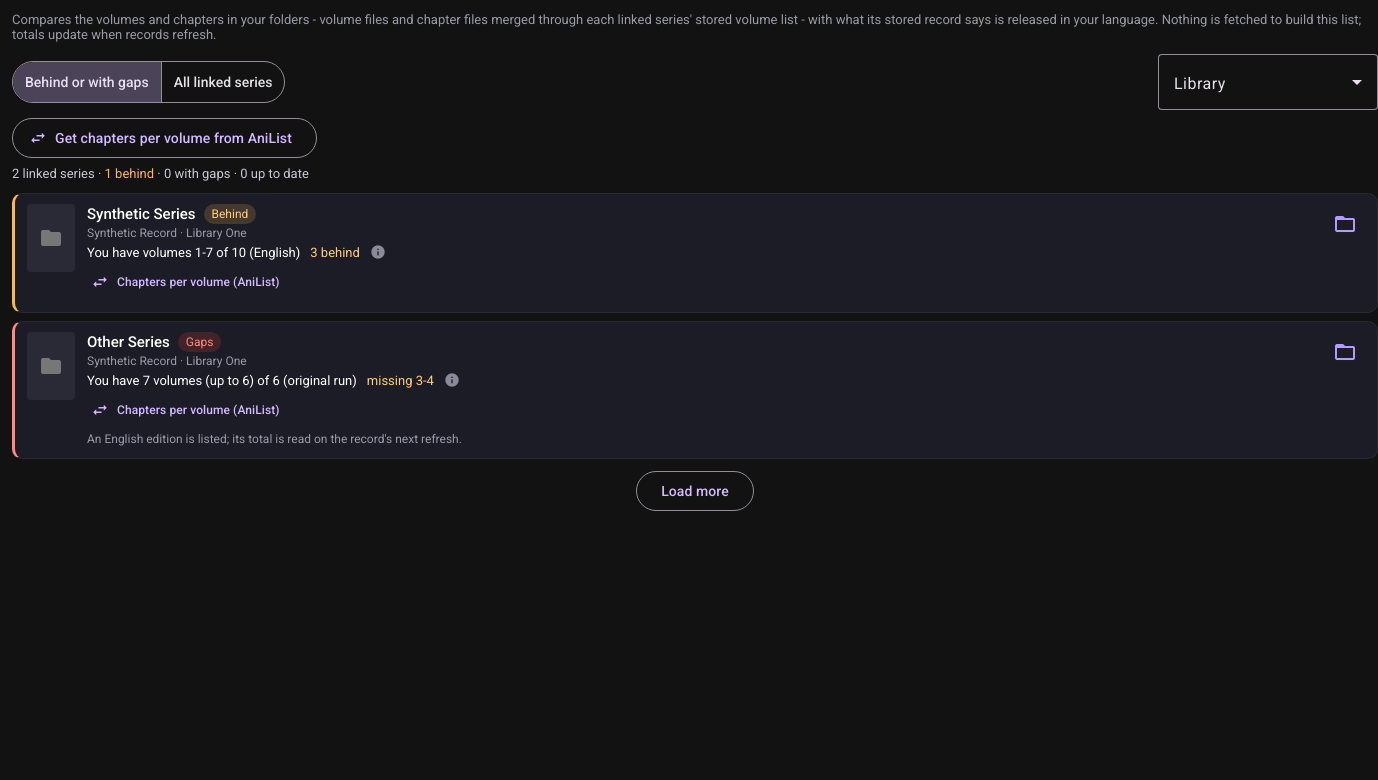
MissingReportComponent › loads the series that are behind or have gaps and renders their lines
Expected: the number of elements with test id "missing-row" is 2, [12, 193, 1377, 313]; [12, 321, 1377, 459]
Expected: the element with test id "missing-row" shows "You have volumes 1-7 of 10 (English)", [87, 244, 300, 260]
Step 1. Click the button with test id "missing-more" → click(695, 491), box [636, 471, 754, 511]
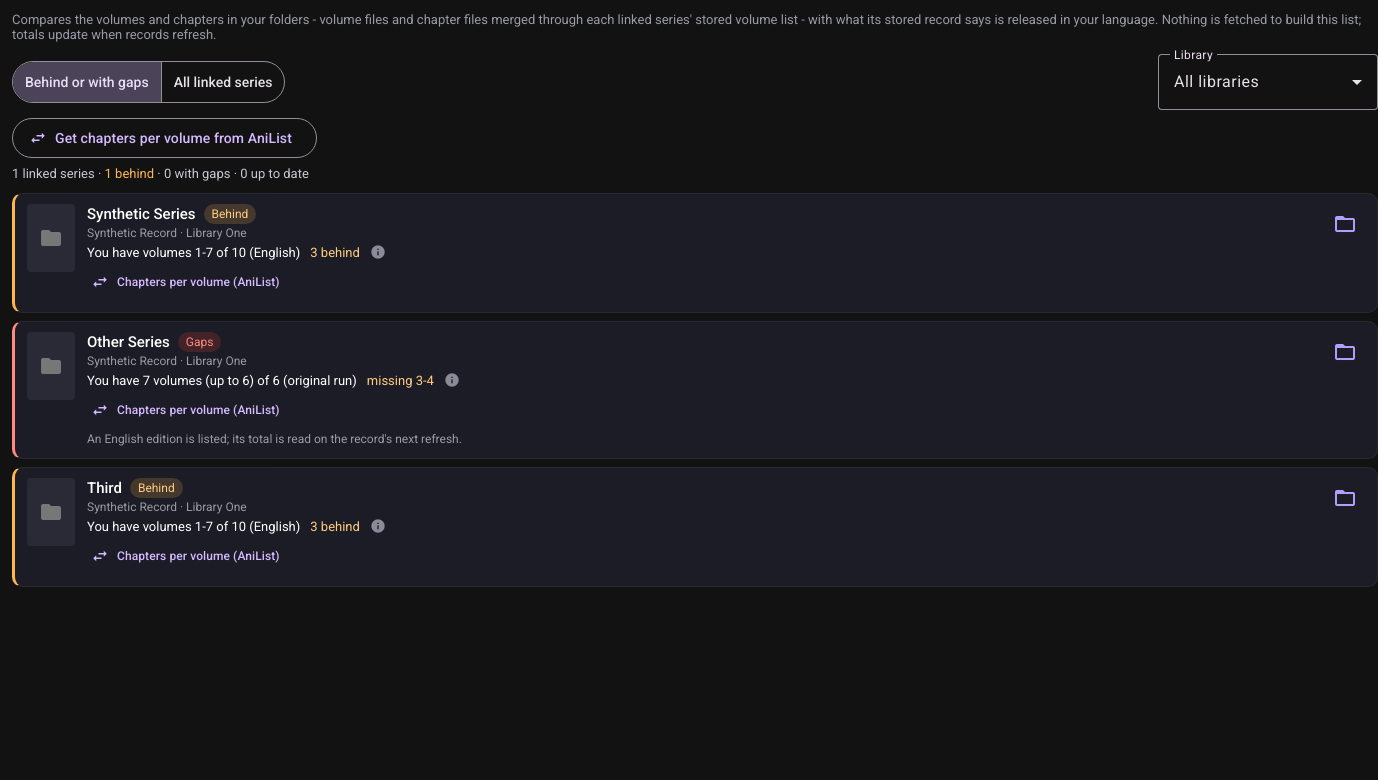
Result: the number of elements with test id "missing-row" is 3 at [12, 193, 1377, 313]; [12, 321, 1377, 459]; [12, 467, 1377, 587]
